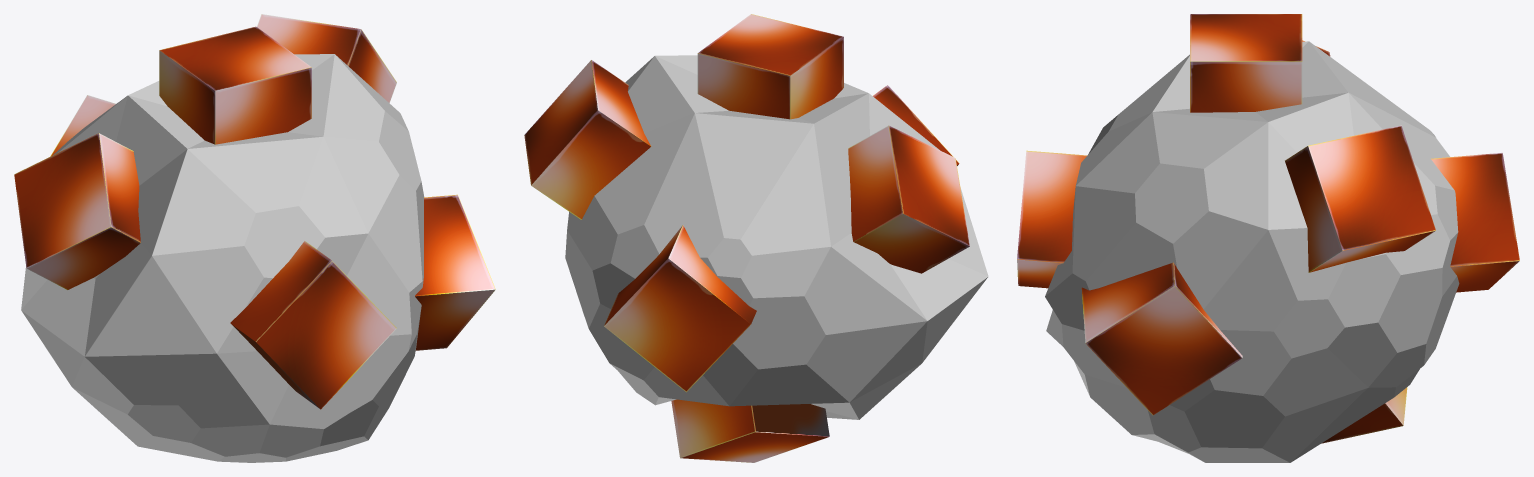
File: asteroid1iron.fbx
The picture shows the model from 3 angles, left to right: view 1: azimuth 30°, elevation 25°; view 2: azimuth 150°, elevation 25°; view 3: azimuth 270°, elevation 25°; orthographic projection. The views are drawn at different scales.
Parts seen in each view (by area): view 1: Icosphere, Cube.001, Cube.003, Cube, Cube.005, Cube.002, Cube.004; view 2: Icosphere, Cube.001, Cube.004, Cube, Cube.002, Cube.006, Cube.003; view 3: Icosphere, Cube.002, Cube.005, Cube, Cube.004, Cube.003, Cube.006.
Part boxes in pixels (box(x1,y1,x2,y2)): Icosphere: box(21, 54, 424, 462); Cube.001: box(14, 133, 140, 289); Cube.003: box(230, 241, 396, 409); Cube: box(159, 26, 311, 144); Cube.005: box(415, 194, 495, 350); Cube.002: box(257, 14, 396, 102); Cube.004: box(50, 95, 115, 156); Icosphere: box(565, 55, 988, 419); Cube.001: box(848, 125, 969, 273); Cube.004: box(604, 225, 756, 392); Cube: box(697, 14, 843, 119); Cube.002: box(524, 60, 651, 219); Cube.006: box(671, 399, 829, 462); Cube.003: box(873, 85, 959, 165); Icosphere: box(1045, 41, 1459, 462); Cube.002: box(1285, 125, 1435, 272); Cube.005: box(1081, 262, 1242, 415); Cube: box(1190, 14, 1302, 112); Cube.004: box(1431, 152, 1519, 292); Cube.003: box(1017, 150, 1087, 288); Cube.006: box(1321, 387, 1407, 443).
Bounding box in the file's own units: 1119 × 1057 × 1160.
